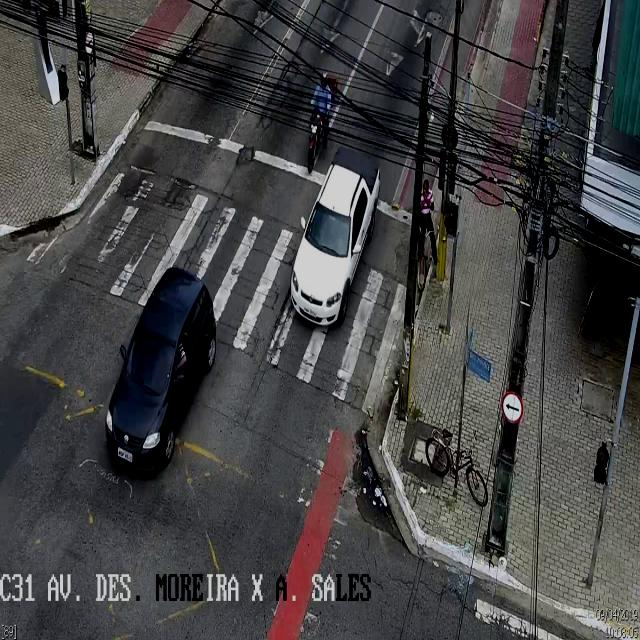Car: (104, 267, 218, 477), (292, 164, 378, 328)
Motorcycle: (307, 72, 340, 176)
